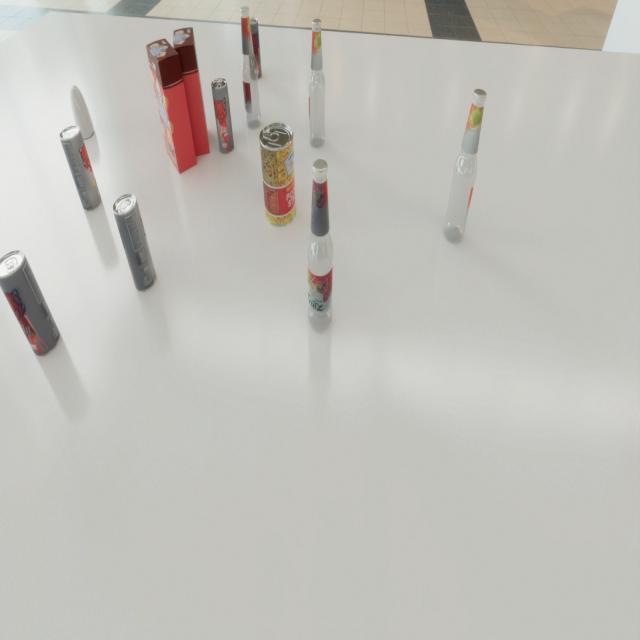Bottle: (442, 89, 487, 243), (306, 159, 334, 332), (240, 6, 261, 129), (308, 19, 326, 148)
HelloPanda: (146, 38, 197, 174), (173, 27, 210, 158)
Potato_sticks: (259, 122, 296, 227)
Rita_zero_sugar: (0, 250, 60, 356), (112, 194, 156, 292), (60, 126, 102, 211), (211, 78, 234, 154), (246, 17, 262, 80)
Salt: (70, 85, 94, 138)
